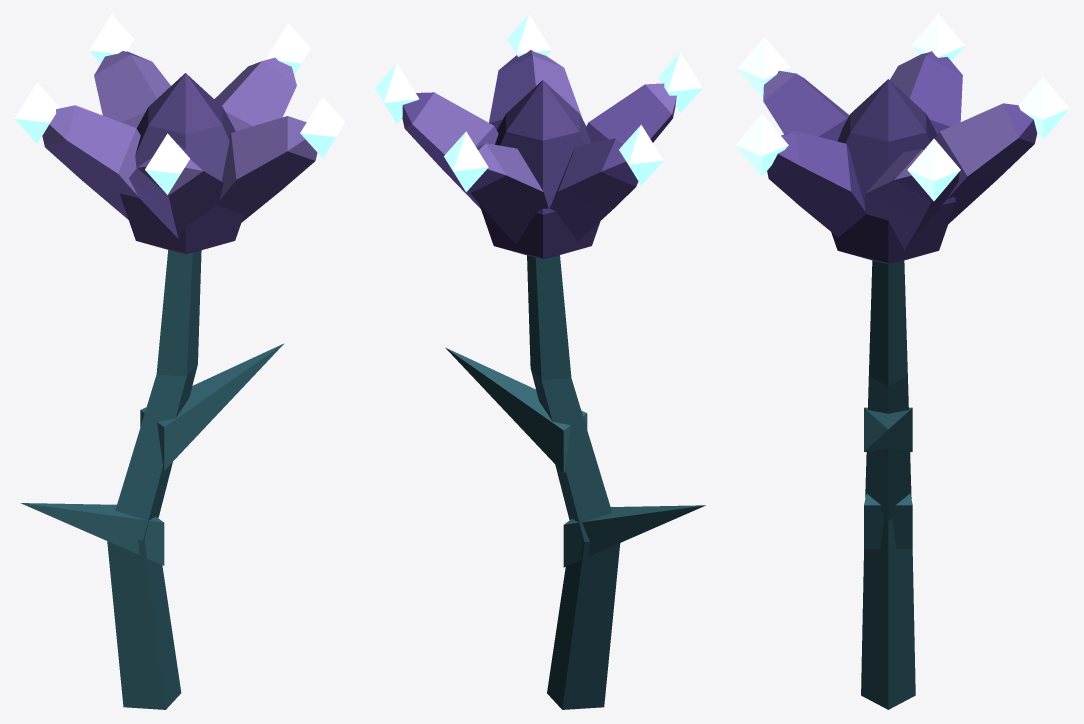
Rendered from glow-plant.glb.
3 views of the same model, side by side, from view 1: azimuth 30°, elevation 25°; view 2: azimuth 150°, elevation 25°; view 3: azimuth 270°, elevation 25° (orthographic). The views are drawn at different scales.
Visible parts, largest first — view 1: petals, stem, bud; view 2: petals, stem, bud; view 3: petals, stem, bud.
Part boxes in pixels (<box>): petals: <box>14,14,345,238</box>; stem: <box>20,250,283,709</box>; bud: <box>119,73,243,254</box>; petals: <box>374,14,702,244</box>; stem: <box>445,255,705,709</box>; bud: <box>479,80,600,259</box>; petals: <box>735,14,1069,249</box>; stem: <box>861,260,915,709</box>; bud: <box>831,79,955,264</box>.
Bounding box in the file's own units: 0.7574 × 1.44 × 0.6852.
